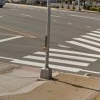crosswalk: (10, 27, 99, 72)
